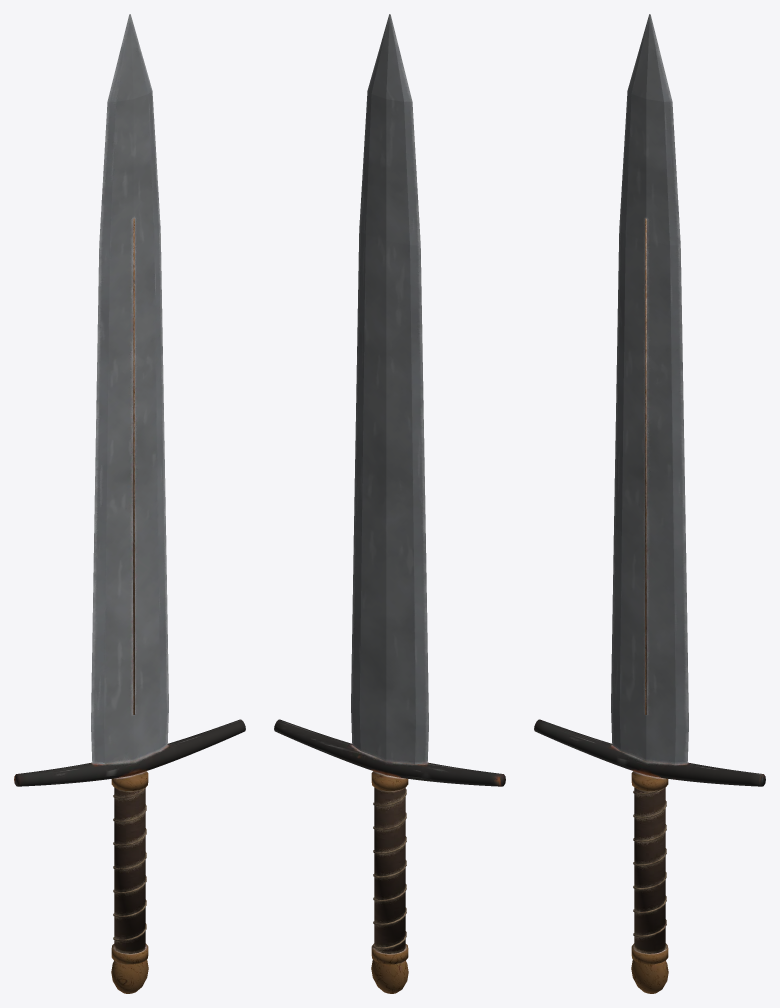
File: eq_greatsword_2.glb
3 renders of one model, left to right at view 1: azimuth 30°, elevation 25°; view 2: azimuth 150°, elevation 25°; view 3: azimuth 330°, elevation 25°, orthographic.
Visible parts, largest first — view 1: eq_greatsword_2; view 2: eq_greatsword_2; view 3: eq_greatsword_2.
Boxes of the visible parts, x1,y1,x2,y2 form: eq_greatsword_2: (14,14,245,993); eq_greatsword_2: (274,14,505,993); eq_greatsword_2: (534,14,765,993).
Bounding box in the file's own units: 0.4836 × 1.99 × 0.068.
Materials: 1 (1 with a texture image).
